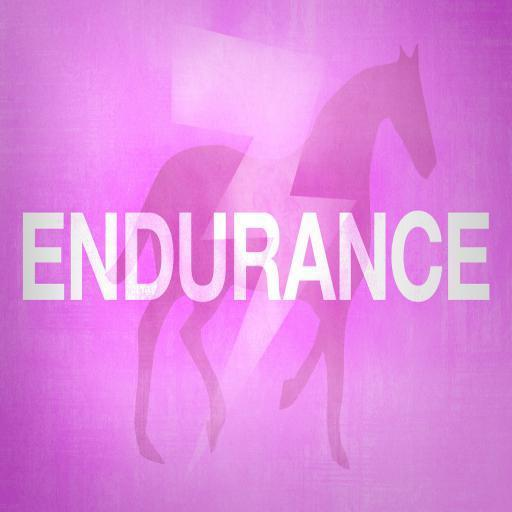horse: (106, 42, 438, 462)
